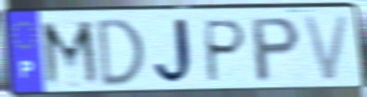D: (96, 17, 148, 90)
J: (152, 15, 200, 88)
M: (39, 18, 104, 90)
P: (250, 15, 304, 86), (204, 18, 249, 85)
V: (300, 13, 353, 86)
